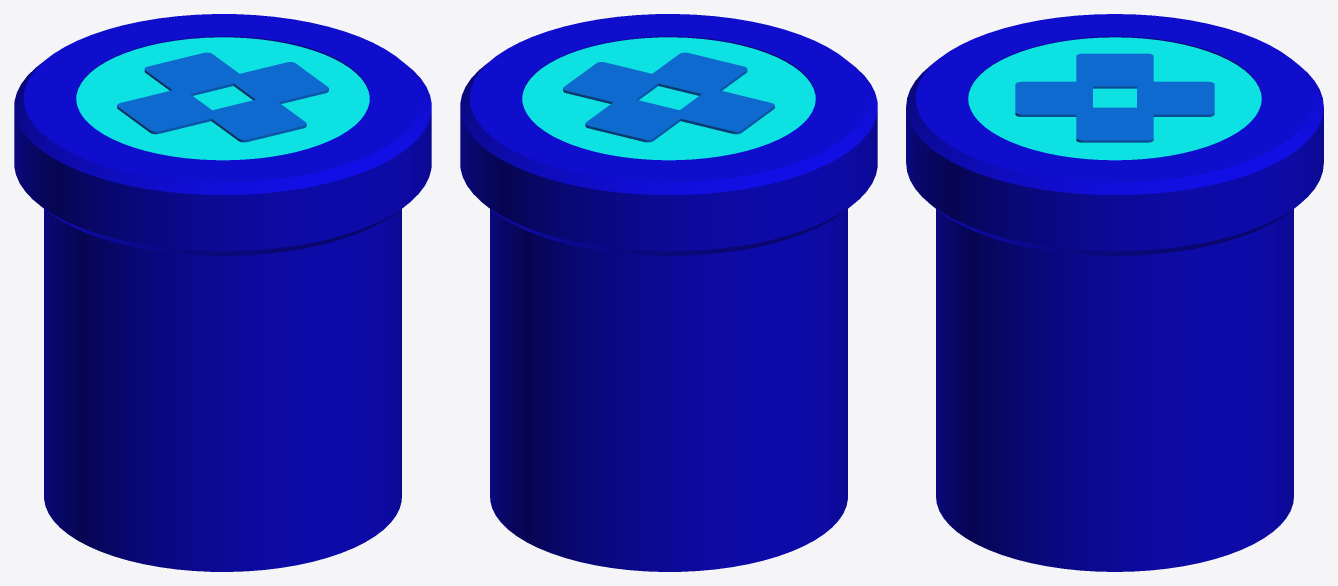
Rendered from Pipe Lift.dae.
The picture shows the model from 3 angles, left to right: view 1: azimuth 30°, elevation 25°; view 2: azimuth 150°, elevation 25°; view 3: azimuth 270°, elevation 25°; orthographic projection.
Visible parts, largest first — view 1: Cylinder, Platform.004; view 2: Cylinder, Platform.004; view 3: Cylinder, Platform.004.
Part boxes in pixels (x1,y1,x2,y2): Cylinder: [14, 14, 431, 571]; Platform.004: [76, 37, 369, 160]; Cylinder: [460, 14, 877, 571]; Platform.004: [522, 37, 815, 160]; Cylinder: [906, 14, 1323, 571]; Platform.004: [968, 37, 1261, 160].
Size of the model in its own units: 2.33 by 2.33 by 2.46.
